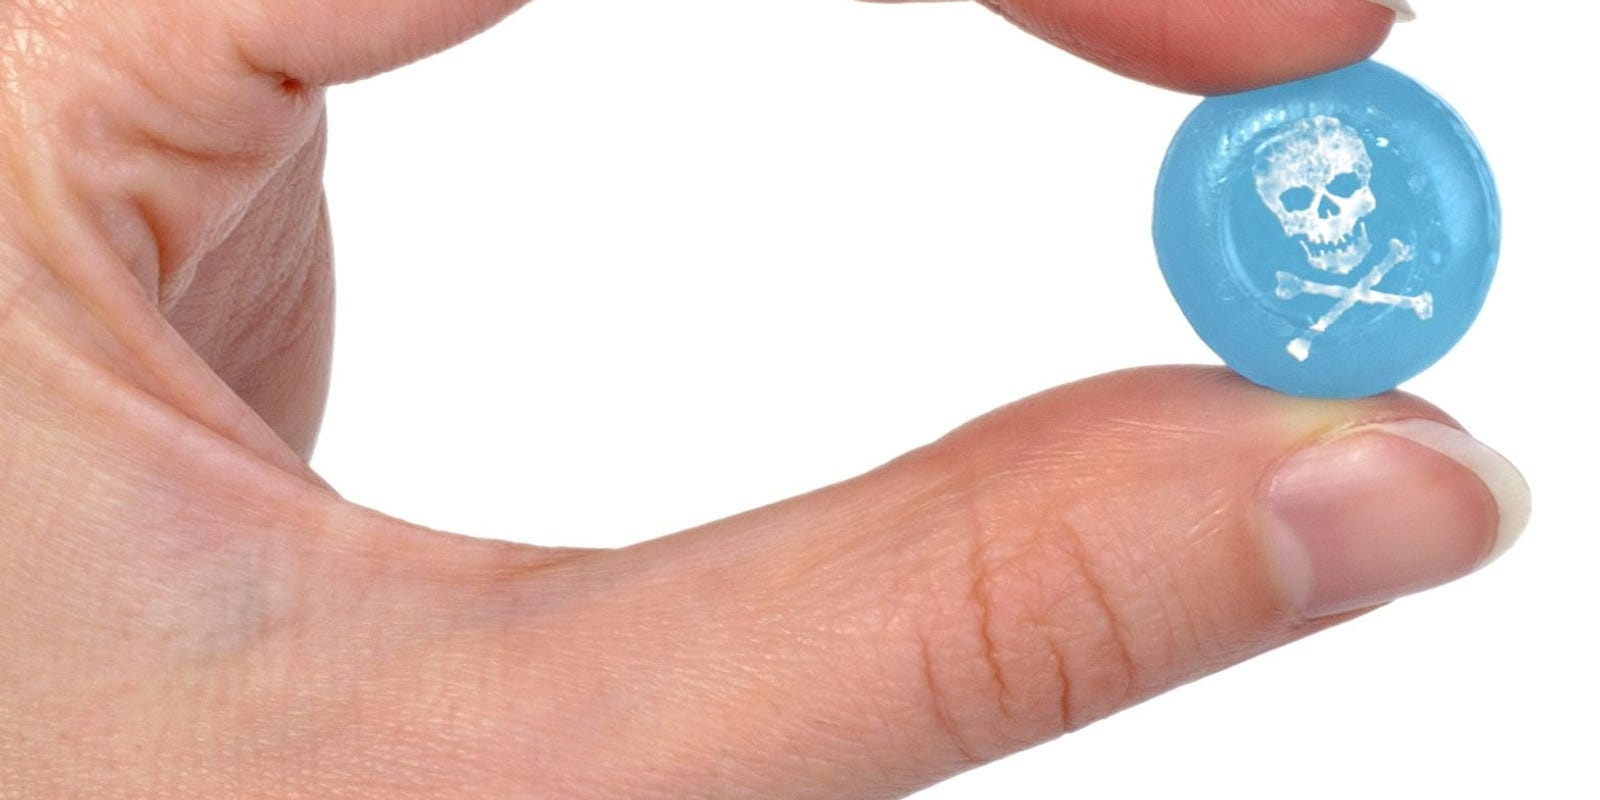pills: (1164, 49, 1507, 401)
